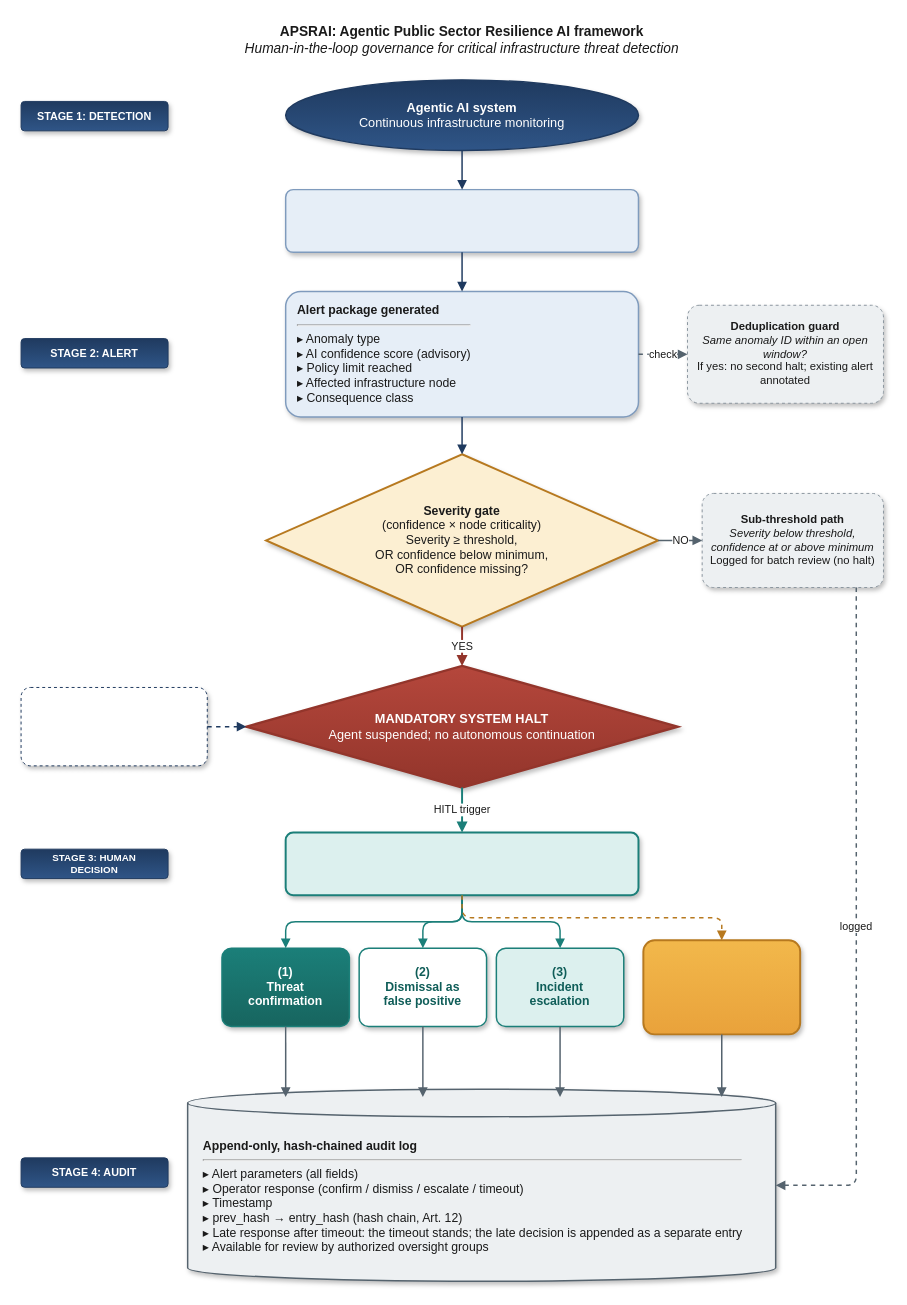
This 907x1305 diagram has some shape labels left out. The centre of each missing label's shape, as x and y in pixels:
(T) Timeout No response in window Fail-closed: action blocked, alert escalated: point (722, 988)
Anomaly pattern detection Comparison against established policy limits: point (463, 222)
EU AI Act, Article 14 Human oversight: operational stop-gate: point (114, 728)
Human operator interface Time-bound response window opens: point (462, 865)
